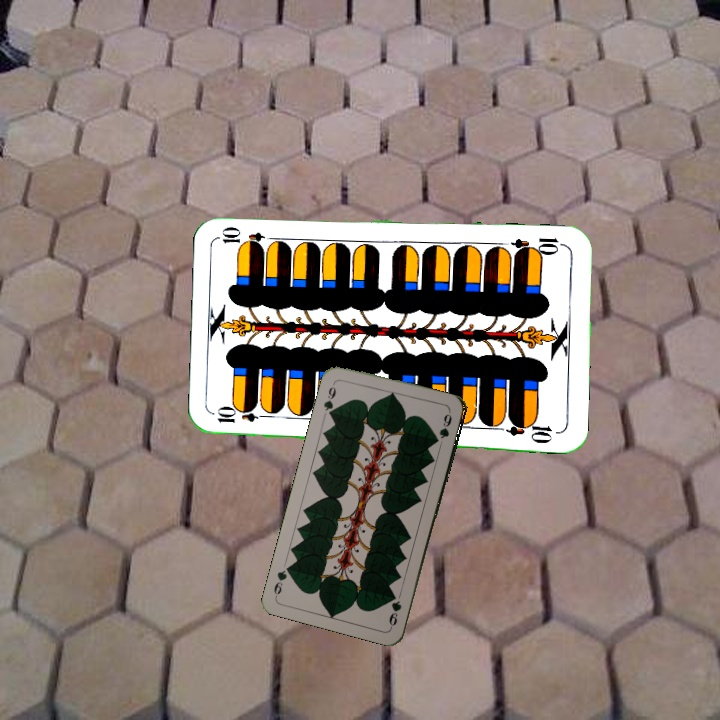E10: (508, 233, 567, 258), (213, 407, 272, 426)
G9: (319, 377, 339, 418), (385, 597, 404, 630)
